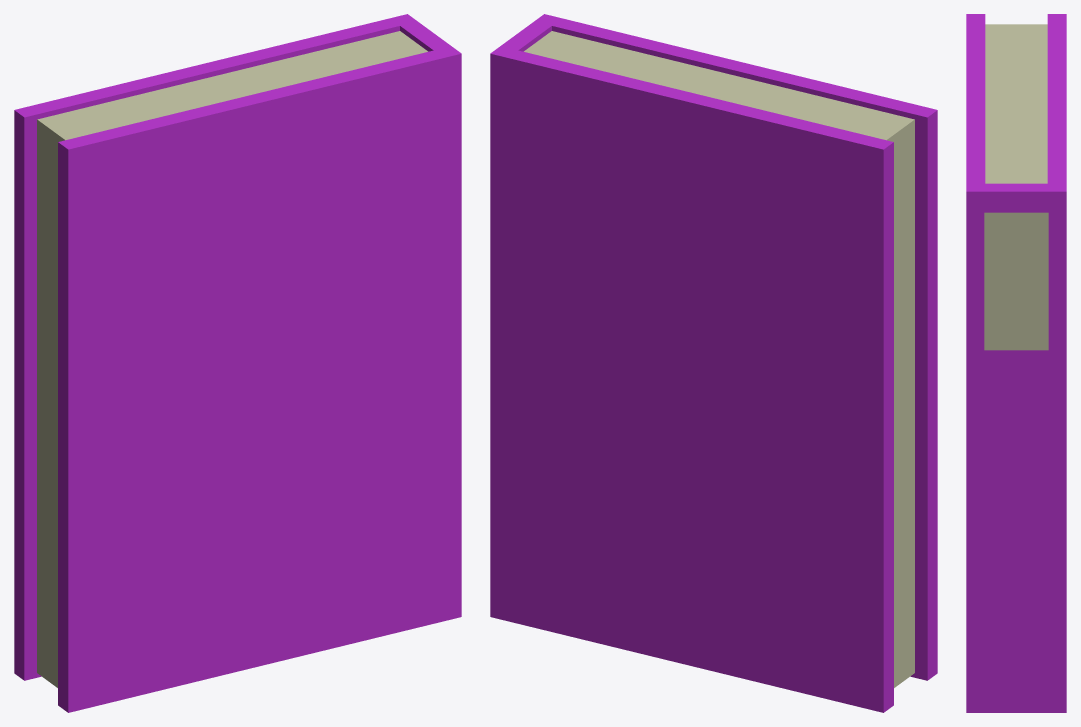
File: Book1V1.fbx
3 renders of one model, left to right at view 1: azimuth 30°, elevation 25°; view 2: azimuth 150°, elevation 25°; view 3: azimuth 270°, elevation 25°, orthographic. The views are drawn at different scales.
Visible parts, largest first — view 1: Cube; view 2: Cube; view 3: Cube.
Part boxes in pixels (x1,y1,x2,y2): Cube: [14, 14, 461, 712]; Cube: [490, 14, 937, 712]; Cube: [966, 14, 1066, 712].
Bounding box in the file's own units: 52.99 × 222 × 304.
